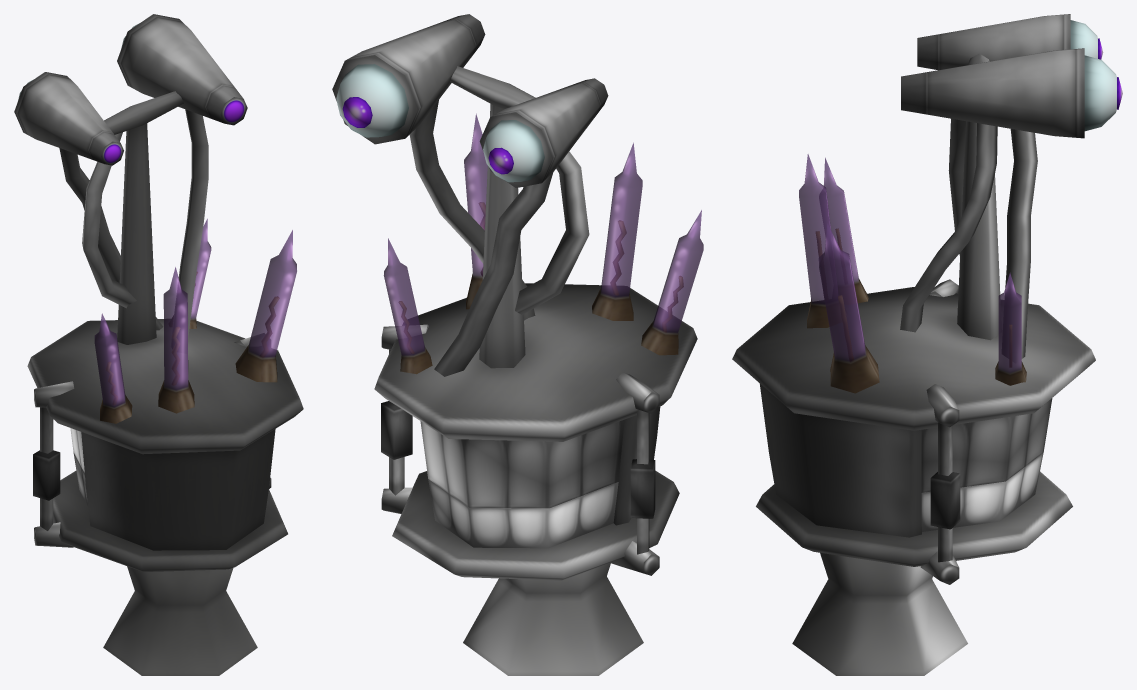
File: skelecog_b.glb
3 renders of one model, left to right at view 1: azimuth 30°, elevation 25°; view 2: azimuth 150°, elevation 25°; view 3: azimuth 270°, elevation 25°, orthographic. The views are drawn at different scales.
Visible parts, largest first — view 1: Object.001; view 2: Object.001; view 3: Object.001.
Part boxes in pixels (x1,y1,x2,y2): Object.001: (14,14,303,675); Object.001: (332,14,703,675); Object.001: (732,14,1122,675).
Bounding box in the file's own units: 0.5923 × 1.34 × 0.7524.
1 material, 1 textured.
